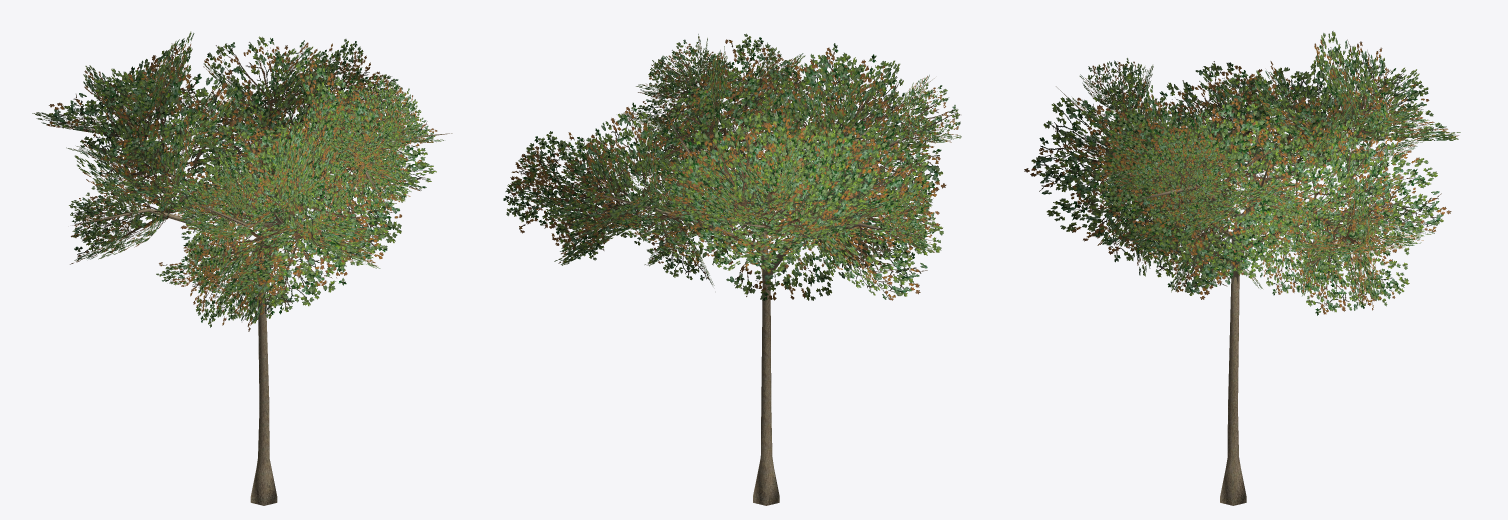
File: decd_mapletreeleaves_a1_l0.fbx
3 renders of one model, left to right at view 1: azimuth 30°, elevation 25°; view 2: azimuth 150°, elevation 25°; view 3: azimuth 270°, elevation 25°, orthographic.
Parts seen in each view (by area): view 1: mesh_node; view 2: mesh_node; view 3: mesh_node.
Boxes of the visible parts, left/top/right/bottom form: mesh_node: left=32, top=31, right=452, bottom=505; mesh_node: left=503, top=33, right=961, bottom=505; mesh_node: left=1024, top=31, right=1460, bottom=505.
Bounding box in the file's own units: 17.13 × 18.7 × 18.41.
